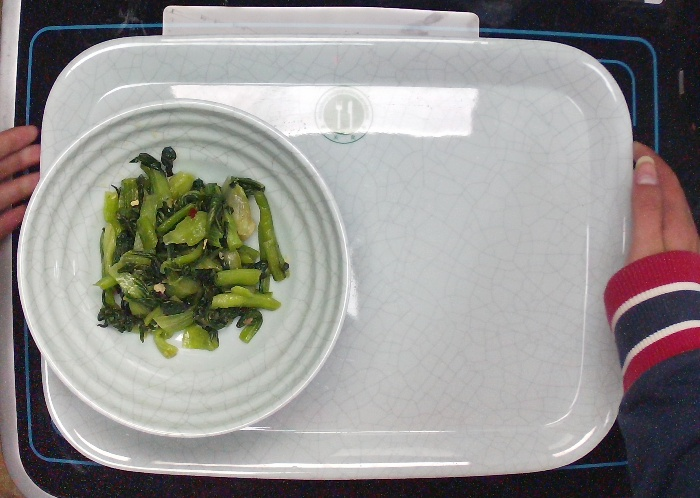JYsf-Da_Tang_Wan: (15, 96, 352, 441)
